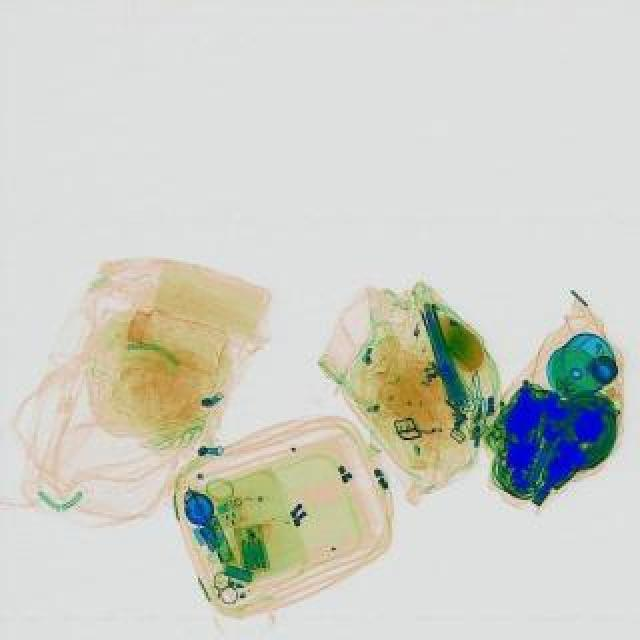scissors: (518, 422, 566, 496)
